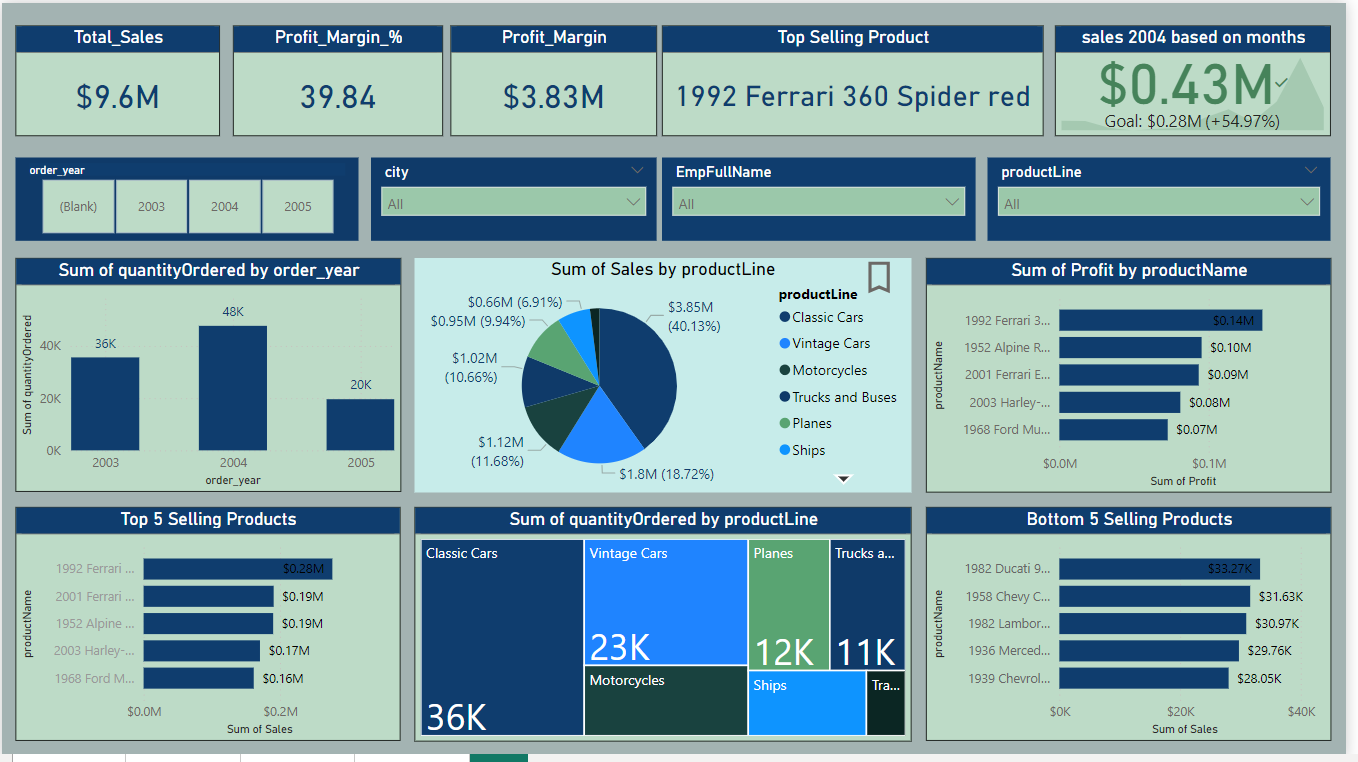

This screenshot's page, from the dashboard's own definition file:
{"tool":"powerbi","page":{"name":"Page 1","canvas":[1280,720],"ordinal":0},"visuals":[{"type":"card","title":"Profit_Margin","fields":{"Values":["order details.TotalProfit"]},"box":[427.4,21.5,196.4,105.6],"z":0},{"type":"barChart","title":"Top 5 Selling Products","fields":{"Y":["Sum(order details.Sales)"],"Category":["product.productName"]},"box":[13.2,480.2,366.3,222.8],"z":1000},{"type":"slicer","fields":{"Values":["orders.order_year"]},"box":[13.2,146.9,326.7,79.2],"z":2000},{"type":"card","title":"Top Selling Product","fields":{"Values":["order details.MostOrderedProduct"]},"box":[628.7,21.5,363,105.6],"z":3000},{"type":"kpi","title":"sales 2004 based on months","fields":{"TrendLine":["orders.Month Name"],"Goal":["orders.sales_2003"],"Indicator":["orders.sales_2004"]},"box":[1003.3,21.5,262.4,105.6],"z":4000},{"type":"treemap","fields":{"Group":["productline.productLine"],"Values":["Sum(order details.quantityOrdered)"]},"box":[392.3,479.8,473.6,223.5],"z":5000},{"type":"columnChart","fields":{"Category":["orders.order_year"],"Y":["Sum(order details.quantityOrdered)"]},"box":[13.2,242.6,366.3,222.8],"z":6000},{"type":"card","title":"Profit_Margin_%","fields":{"Values":["classic model dataset.Profit_Margin_%"]},"box":[219.5,21.5,199.7,105.6],"z":7000},{"type":"card","title":"Total_Sales","fields":{"Values":["Sum(order details.Sales)"]},"box":[13.2,21.5,194.7,105.6],"z":8000},{"type":"slicer","fields":{"Values":["customer.city"]},"box":[351.5,146.9,272.3,79.2],"z":9000},{"type":"slicer","fields":{"Values":["employees.empFullName"]},"box":[628.7,146.9,298.7,79.2],"z":10000},{"type":"slicer","fields":{"Values":["productline.productLine"]},"box":[939,146.9,326.7,79.2],"z":11000},{"type":"barChart","title":"Bottom 5 Selling Products","fields":{"Y":["Sum(order details.Sales)"],"Category":["product.productName"]},"box":[879.6,480.2,386.2,222.8],"z":12000},{"type":"pieChart","title":"Sales by productLine","fields":{"Y":["Sum(order details.Sales)"],"Category":["productline.productLine"]},"box":[392.3,242.3,473.6,223.5],"z":13000},{"type":"actionButton","box":[816.3,241.6,44.2,39.5],"z":14000},{"type":"columnChart","title":"Most Profit by Product","fields":{"Category":["product.productName"],"Y":["Sum(order details.Profit)"]},"box":[880,242.3,386.1,223.5],"z":14001}]}

Visuals, with their boxes in screenshot pixels (x1, y1, x2, y2), scaled from the page's 1280x720 canvas onto the 1358x762 screenshot:
"Profit_Margin" card: 453, 23, 662, 135
"Top 5 Selling Products" barChart: 14, 508, 403, 744
slicer - orders.order_year: 14, 155, 361, 239
"Top Selling Product" card: 667, 23, 1052, 135
"sales 2004 based on months" kpi: 1064, 23, 1343, 135
treemap - productline.productLine x Sum(order details.quantityOrdered): 416, 508, 919, 744
columnChart - orders.order_year x Sum(order details.quantityOrdered): 14, 257, 403, 493
"Profit_Margin_%" card: 233, 23, 445, 135
"Total_Sales" card: 14, 23, 221, 135
slicer - customer.city: 373, 155, 662, 239
slicer - employees.empFullName: 667, 155, 984, 239
slicer - productline.productLine: 996, 155, 1343, 239
"Bottom 5 Selling Products" barChart: 933, 508, 1343, 744
"Sales by productLine" pieChart: 416, 256, 919, 493
actionButton: 866, 256, 913, 297
"Most Profit by Product" columnChart: 934, 256, 1343, 493
